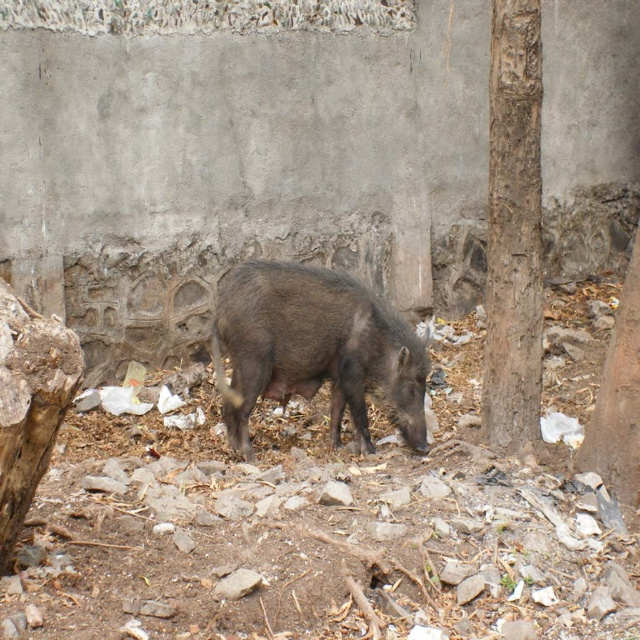Pig: (206, 254, 431, 465)
